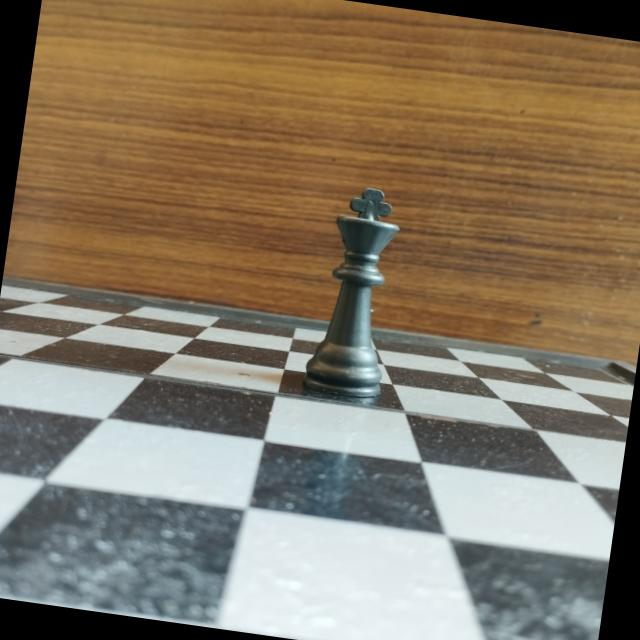Black King: (297, 174, 419, 407)
